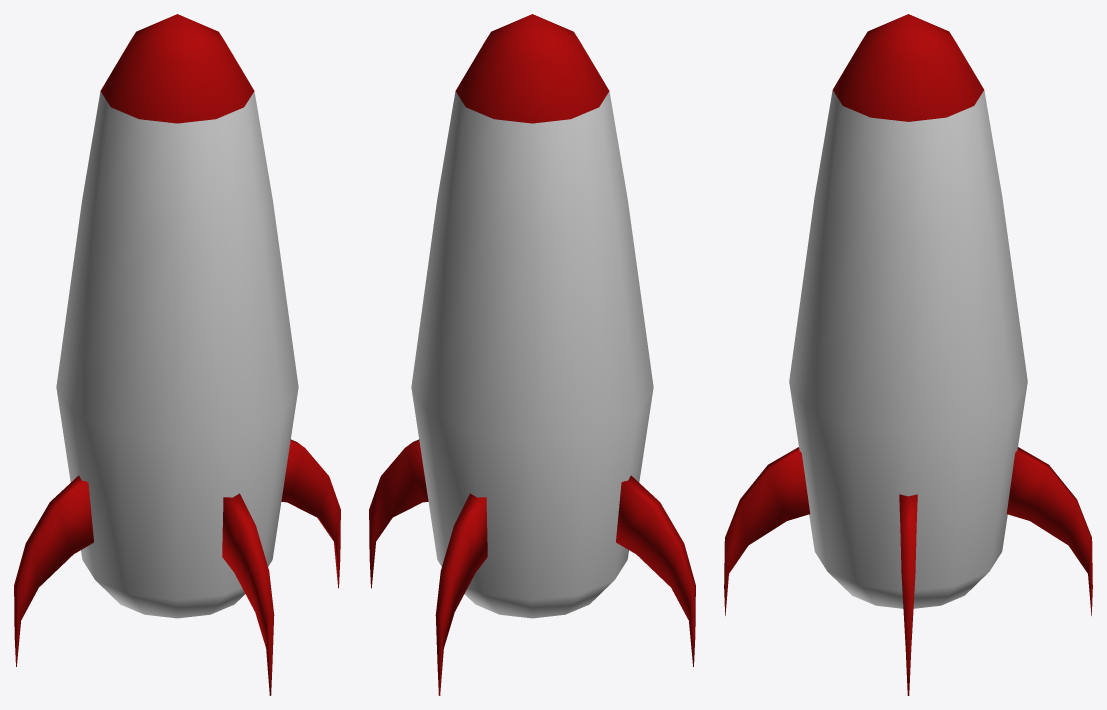
The model's file is Rocket.fbx.
3 views of the same model, side by side, from view 1: azimuth 30°, elevation 25°; view 2: azimuth 150°, elevation 25°; view 3: azimuth 270°, elevation 25° (orthographic).
Visible parts, largest first — view 1: rocket; view 2: rocket; view 3: rocket.
Part boxes in pixels (<box>): rocket: <box>14,14,340,695</box>; rocket: <box>369,14,695,695</box>; rocket: <box>724,14,1092,695</box>.
Size of the model in its own units: 477 by 863 by 477.
